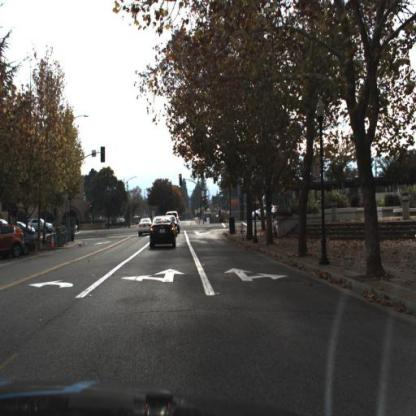car: (150, 213, 179, 252), (1, 222, 28, 261), (16, 222, 40, 259), (2, 227, 24, 257), (251, 202, 281, 223), (27, 217, 56, 238), (251, 208, 278, 224), (32, 220, 55, 238), (138, 217, 154, 238)
trafficLight-Red: (178, 174, 185, 189), (180, 174, 184, 186)
